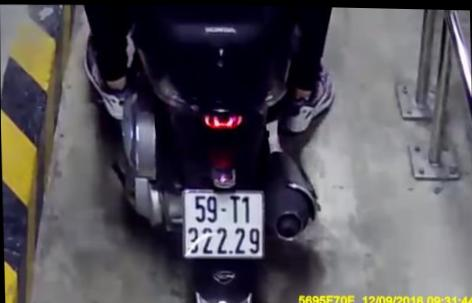LP: (182, 185, 263, 261)
